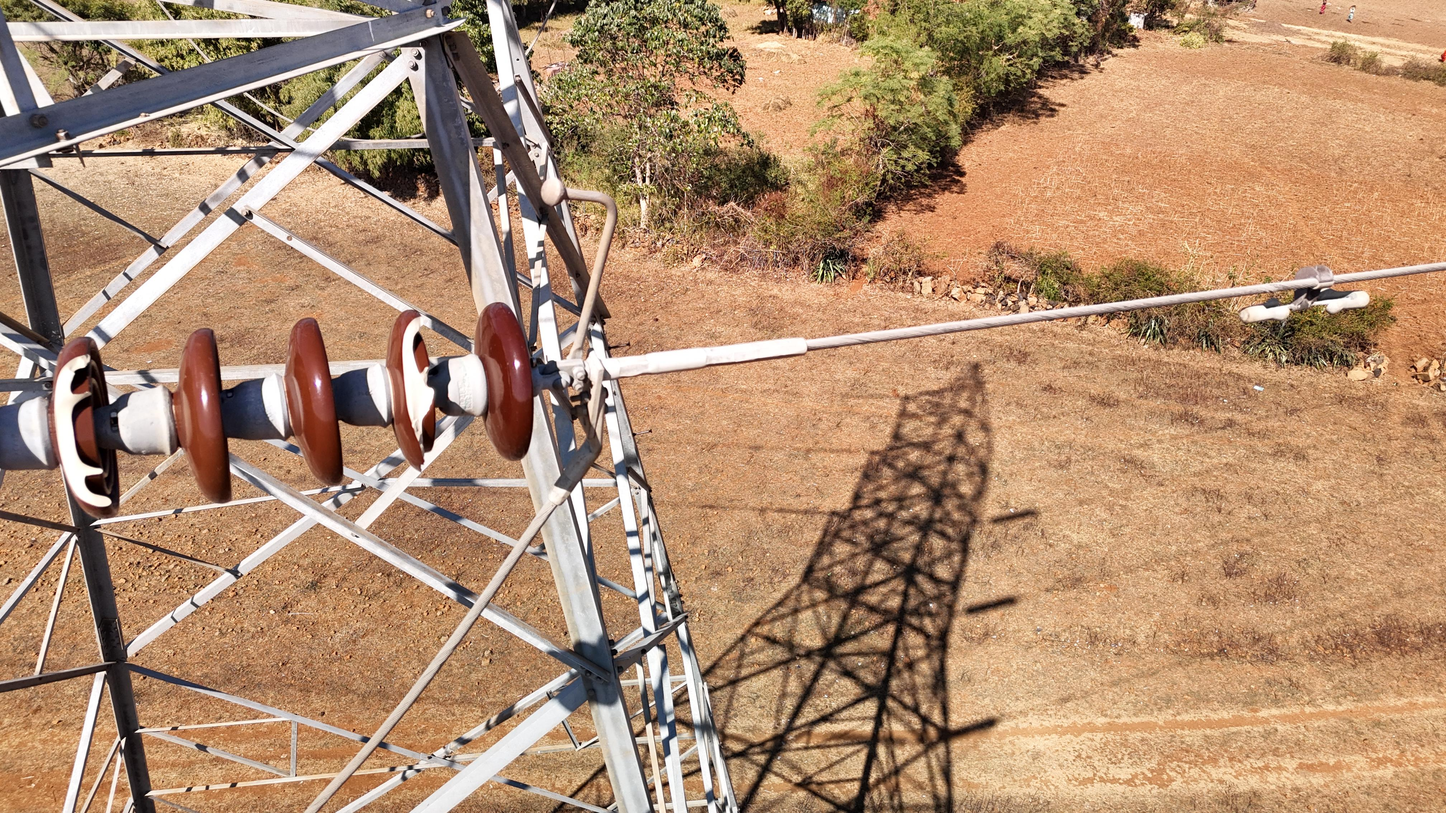broken_insulator: (34, 324, 147, 522), (368, 289, 461, 493)
